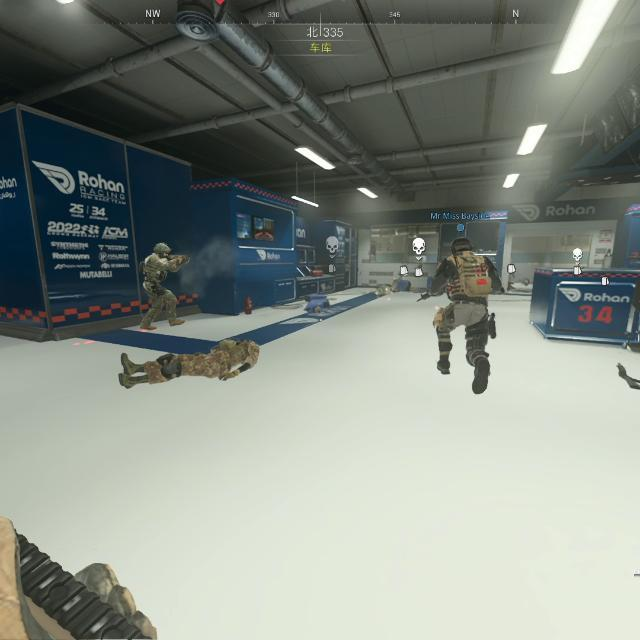MW2_body: (137, 241, 189, 328)
